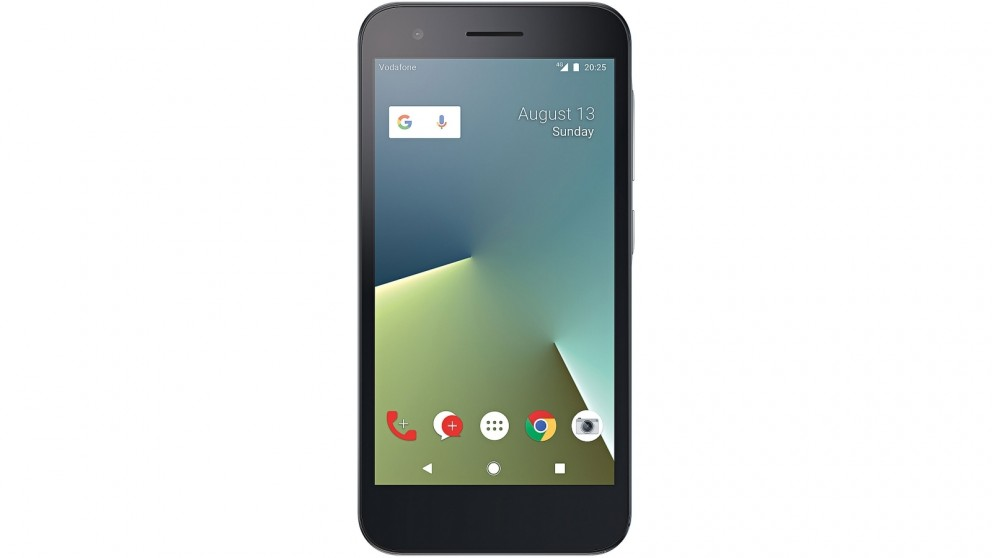phone: (353, 1, 635, 556)
